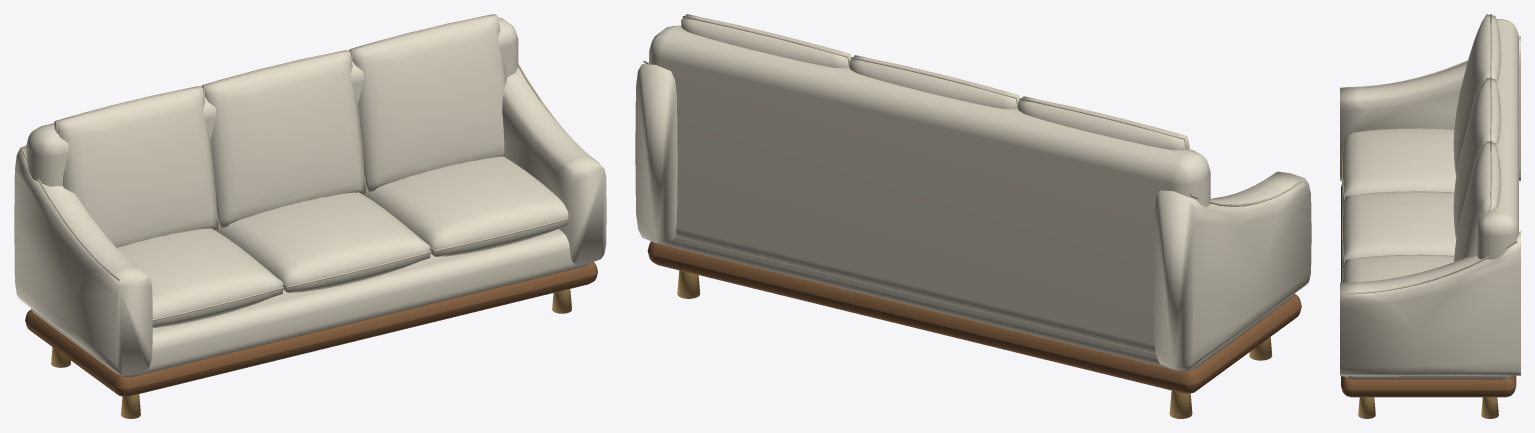
The model's file is SofaLOD1.fbx.
3 views of the same model, side by side, from view 1: azimuth 30°, elevation 25°; view 2: azimuth 150°, elevation 25°; view 3: azimuth 270°, elevation 25° (orthographic). The views are drawn at different scales.
Visible parts, largest first — view 1: Sofa.001; view 2: Sofa.001; view 3: Sofa.001.
Boxes of the visible parts, box(x1,y1,x2,y2) form: Sofa.001: box(14, 14, 606, 418); Sofa.001: box(635, 14, 1311, 418); Sofa.001: box(1340, 14, 1520, 418).
Size of the model in its own units: 259 by 124 by 94.
